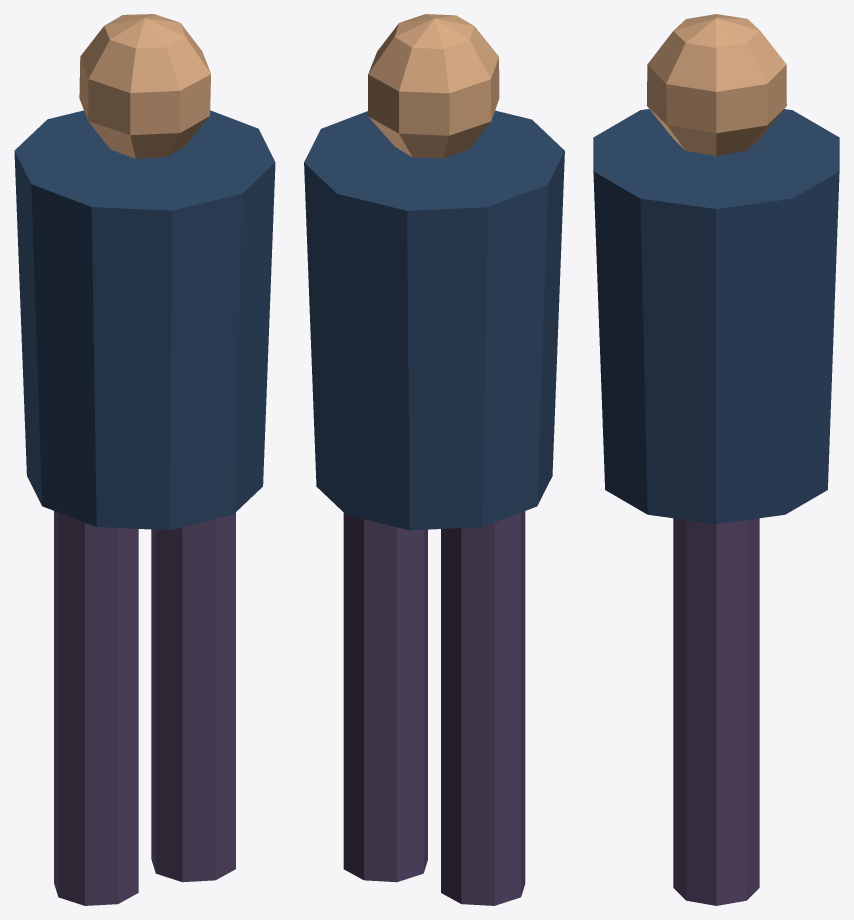
File: Person0.glb
3 views of the same model, side by side, from view 1: azimuth 30°, elevation 25°; view 2: azimuth 150°, elevation 25°; view 3: azimuth 270°, elevation 25° (orthographic).
Parts seen in each view (by area): view 1: Person0; view 2: Person0; view 3: Person0.
Boxes of the visible parts, <box> form: Person0: <box>14,14,275,905</box>; Person0: <box>304,14,564,905</box>; Person0: <box>593,14,839,905</box>.
Bounding box in the file's own units: 0.42 × 1.51 × 0.3994.
